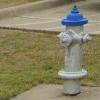a fire hydrant: (58, 4, 91, 95)
